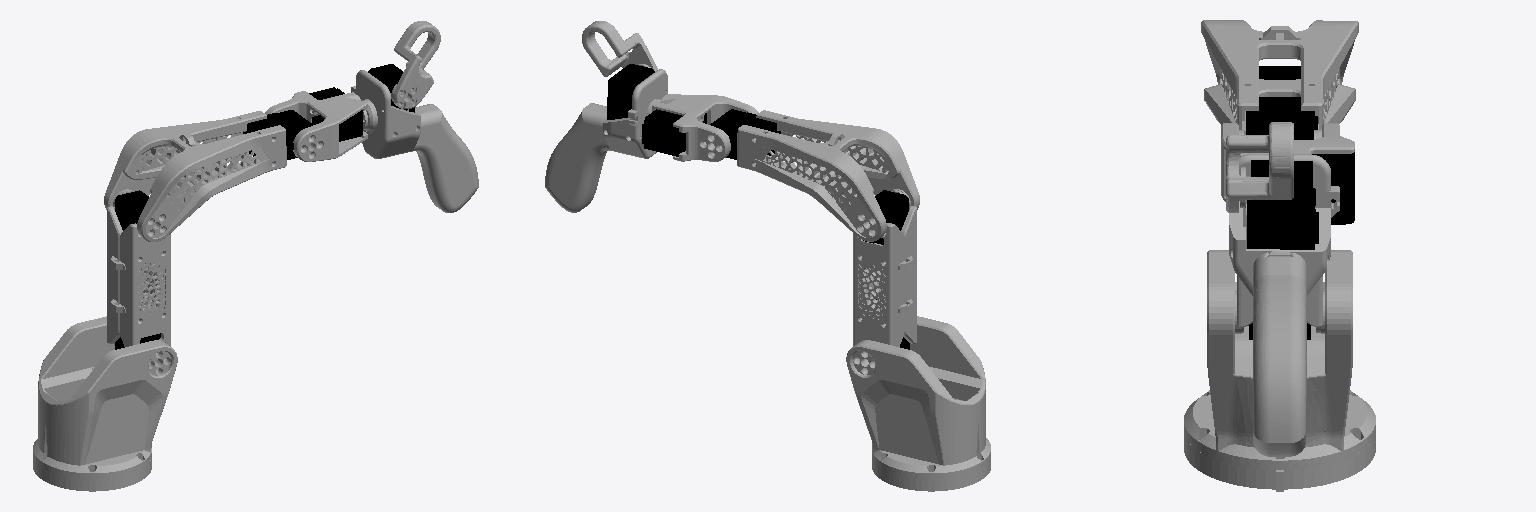
URDF robot description (so_arm_102_pre_for_urdf_v5):
<?xml version="1.0" ?>
<!-- SO-ARM 102 leader arm, Robonine (https://github.com/roboninecom/SO-ARM102) -->
<!-- Source: simulation/urdf/so_arm_102.urdf, simulation/urdf/meshes/*.stl and models/stl/SO-ARM102_Leader.STL at commit f0a993e -->
<!-- Licence: CC-BY-4.0 (simulation assets) / CERN-OHL-P-2.0 (models), see the repository's LICENSING.md -->
<!-- Changes for the station viewer: collision boxes removed; each link mesh split into a frame mesh and one mesh per servo so motors can be coloured by status; link5 carries the leader wrist-roll part, handle and servo (taken from the leader assembly STL and decimated), with the trigger as a revolute joint on the servo horn axis; the trigger limits (-0.6..0 rad, 0 = released) are an estimate, not CAD data -->
<robot name="so_arm_102_pre_for_urdf_v5">
  <material name="silver">
    <color rgba="0.7 0.7 0.7 1.0" />
  </material>
  <material name="so102_motor_1_material">
    <color rgba="0 0 0 1.0" />
  </material>
  <material name="so102_motor_2_material">
    <color rgba="0 0 0 1.0" />
  </material>
  <material name="so102_motor_3_material">
    <color rgba="0 0 0 1.0" />
  </material>
  <material name="so102_motor_4_material">
    <color rgba="0 0 0 1.0" />
  </material>
  <material name="so102_motor_5_material">
    <color rgba="0 0 0 1.0" />
  </material>
  <material name="so102_motor_6_material">
    <color rgba="0 0 0 1.0" />
  </material>
  <link name="base_link">
    <inertial>
      <origin xyz="-0.00753657459228 2.70964811146e-05 0.013641047398" rpy="0 0 0" />
      <mass value="0.178499229726" />
      <inertia ixx="0.000199871543864" iyy="0.000148679123423" izz="0.000331455821027" ixy="1.90199840717e-07" iyz="4.23062670743e-08" ixz="-2.10081183092e-06" />
    </inertial>
    <visual>
      <origin xyz="-0 -0 -0" rpy="0 0 0" />
      <geometry>
        <mesh filename="assets/base_link.stl" scale="0.001 0.001 0.001" />
      </geometry>
      <material name="silver" />
    </visual>
  </link>
  <link name="link1_1">
    <inertial>
      <origin xyz="0.000323477926688 -9.49285422888e-06 0.0277445919724" rpy="0 0 0" />
      <mass value="0.201603775922" />
      <inertia ixx="0.000198444068688" iyy="0.000237480937143" izz="0.000210354023061" ixy="7.13434120346e-08" iyz="8.6838415384e-08" ixz="-3.34183738347e-05" />
    </inertial>
    <visual>
      <origin xyz="0.006 1.10978314851e-16 -0.025" rpy="0 0 0" />
      <geometry>
        <mesh filename="assets/link1_1_frame.stl" scale="0.001 0.001 0.001" />
      </geometry>
      <material name="silver" />
    </visual>
    <visual>
      <origin xyz="0.006 1.10978314851e-16 -0.025" rpy="0 0 0" />
      <geometry>
        <mesh filename="assets/motor_1.stl" scale="0.001 0.001 0.001" />
      </geometry>
      <material name="so102_motor_1_material" />
    </visual>
  </link>
  <link name="link2_1">
    <inertial>
      <origin xyz="-9.08588393138e-05 0.0179996080154 0.0565027997369" rpy="0 0 0" />
      <mass value="0.180993297738" />
      <inertia ixx="0.000343822377525" iyy="0.000338733474867" izz="3.40211492897e-05" ixy="3.26214111802e-10" iyz="1.62595657322e-06" ixz="-8.83251140382e-08" />
    </inertial>
    <visual>
      <origin xyz="-0.034 0.018 -0.098356707952" rpy="0 0 0" />
      <geometry>
        <mesh filename="assets/link2_1_frame.stl" scale="0.001 0.001 0.001" />
      </geometry>
      <material name="silver" />
    </visual>
    <visual>
      <origin xyz="-0.034 0.018 -0.098356707952" rpy="0 0 0" />
      <geometry>
        <mesh filename="assets/motor_2.stl" scale="0.001 0.001 0.001" />
      </geometry>
      <material name="so102_motor_2_material" />
    </visual>
    <visual>
      <origin xyz="-0.034 0.018 -0.098356707952" rpy="0 0 0" />
      <geometry>
        <mesh filename="assets/motor_3.stl" scale="0.001 0.001 0.001" />
      </geometry>
      <material name="so102_motor_3_material" />
    </visual>
  </link>
  <link name="link3_1">
    <inertial>
      <origin xyz="0.0899345844067 -0.0180532098499 0.030929698344" rpy="0 0 0" />
      <mass value="0.121036400289" />
      <inertia ixx="4.68441522042e-05" iyy="0.000261776819052" izz="0.000274572705914" ixy="-3.51127629536e-07" iyz="-1.941119197e-08" ixz="-2.45262905805e-05" />
    </inertial>
    <visual>
      <origin xyz="-0.0340339589459 -0.017999879491 -0.211357541714" rpy="0 0 0" />
      <geometry>
        <mesh filename="assets/link3_1_frame.stl" scale="0.001 0.001 0.001" />
      </geometry>
      <material name="silver" />
    </visual>
    <visual>
      <origin xyz="-0.0340339589459 -0.017999879491 -0.211357541714" rpy="0 0 0" />
      <geometry>
        <mesh filename="assets/motor_4.stl" scale="0.001 0.001 0.001" />
      </geometry>
      <material name="so102_motor_4_material" />
    </visual>
  </link>
  <link name="link4_1">
    <inertial>
      <origin xyz="0.0367612549493 -0.00682773158541 -9.36509085222e-05" rpy="0 0 0" />
      <mass value="0.0850684506718" />
      <inertia ixx="2.5361050179e-05" iyy="2.1143272577e-05" izz="3.58784706539e-05" ixy="-2.59566550716e-06" iyz="4.37062265793e-08" ixz="1.43173507335e-07" />
    </inertial>
    <visual>
      <origin xyz="-0.1690931926 -0.0179996182572 -0.244995122636" rpy="0 0 0" />
      <geometry>
        <mesh filename="assets/link4_1_frame.stl" scale="0.001 0.001 0.001" />
      </geometry>
      <material name="silver" />
    </visual>
    <visual>
      <origin xyz="-0.1690931926 -0.0179996182572 -0.244995122636" rpy="0 0 0" />
      <geometry>
        <mesh filename="assets/motor_5.stl" scale="0.001 0.001 0.001" />
      </geometry>
      <material name="so102_motor_5_material" />
    </visual>
  </link>
  <link name="link5_1">
    <inertial>
      <origin xyz="0.0344926242899 -3.24353462452e-05 0.0128432467385" rpy="0 0 0" />
      <mass value="0.106616468137" />
      <inertia ixx="9.43485888891e-05" iyy="6.44606301656e-05" izz="7.93067623665e-05" ixy="-3.08426233239e-07" iyz="5.47431071095e-08" ixz="8.10180709222e-06" />
    </inertial>
    <visual>
      <origin xyz="-0.22828777435 6.48704621215e-07 -0.244954758855" rpy="0 0 0" />
      <geometry>
        <mesh filename="assets/leader_wrist_handle.stl" scale="0.001 0.001 0.001" />
      </geometry>
      <material name="silver" />
    </visual>
    <visual>
      <origin xyz="-0.22828777435 6.48704621215e-07 -0.244954758855" rpy="0 0 0" />
      <geometry>
        <mesh filename="assets/motor_6_leader.stl" scale="0.001 0.001 0.001" />
      </geometry>
      <material name="so102_motor_6_material" />
    </visual>
  </link>
  <joint name="base_to_link1" type="revolute">
    <origin xyz="-0.006 -1.10978314851e-16 0.025" rpy="0 0 0" />
    <parent link="base_link" />
    <child link="link1_1" />
    <axis xyz="-3.48927236311e-15 -1.38855301773e-17 -1" />
    <limit effort="2.942" velocity="4.717" lower="-3.07177948351" upper="3.07177948351" />
  </joint>
  <joint name="link1_to_link2" type="revolute">
    <origin xyz="0.04 -0.018 0.073356707952" rpy="0 0 0" />
    <parent link="link1_1" />
    <child link="link2_1" />
    <axis xyz="3.7576779295e-14 -1 3.11848821907e-14" />
    <limit effort="4.903" velocity="7.874" lower="-2.32128790515" upper="1.58824961931" />
  </joint>
  <joint name="link2_to_link3" type="revolute">
    <origin xyz="3.39589458789e-05 0.035999879491 0.113000833762" rpy="0 0 0" />
    <parent link="link2_1" />
    <child link="link3_1" />
    <axis xyz="5.4643524895e-08 -1 3.71447673953e-08" />
    <limit effort="4.903" velocity="7.874" lower="-1.57079632679" upper="2.67035375555" />
  </joint>
  <joint name="link3_to_link4" type="revolute">
    <origin xyz="0.135059233654 -2.61233757511e-07 0.0336375809223" rpy="0 0 0" />
    <parent link="link3_1" />
    <child link="link4_1" />
    <axis xyz="-5.21611917629e-08 1 -3.41984371354e-08" />
    <limit effort="2.942" velocity="4.717" lower="-1.72787595947" upper="1.69296937443" />
  </joint>
  <!-- Wrist roll: same axis and limits as the follower, so both arms map the
       calibrated range to the same angles. The leader's handle sits half a turn
       from the follower's gripper at the centre of the range, so the link 5
       frame (handle, servo 6, trigger) is rolled 180 degrees about the joint axis. -->
  <joint name="link4_to_link5" type="revolute">
    <origin xyz="0.0591945817497 -0.0180002669618 -4.03637807994e-05" rpy="3.14159265359 0 0" />
    <parent link="link4_1" />
    <child link="link5_1" />
    <axis xyz="-1 -4.90398764451e-08 1.40482066922e-10" />
    <limit effort="2.942" velocity="4.717" lower="-2.87979326579" upper="2.84488668075" />
  </joint>
  <link name="trigger_1">
    <inertial>
      <origin xyz="0 0 0" rpy="0 0 0" />
      <mass value="0.02" />
      <inertia ixx="1e-5" iyy="1e-5" izz="1e-5" ixy="0" iyz="0" ixz="0" />
    </inertial>
    <visual>
      <origin xyz="-0.253819119 -0.017662539 -0.224680706" rpy="0 0 0" />
      <geometry>
        <mesh filename="assets/leader_trigger.stl" scale="0.001 0.001 0.001" />
      </geometry>
      <material name="silver" />
    </visual>
  </link>
  <joint name="trigger" type="revolute">
    <origin xyz="0.025531345 0.017663187 -0.020274053" rpy="0 0 0" />
    <parent link="link5_1" />
    <child link="trigger_1" />
    <axis xyz="-0.000725 0.999999 -0.001489" />
    <limit effort="1" velocity="4.717" lower="-0.6" upper="0" />
  </joint>
</robot>

--- Facts derived from the render (not from the file) ---
3 views of the same robot in one strip: view 1: azimuth 30°, elevation 25°; view 2: azimuth 150°, elevation 25°; view 3: azimuth 270°, elevation 25° (orthographic).
Robot: so_arm_102_pre_for_urdf_v5 — 7 links, 6 joints (6 revolute); root link base_link; default pose: every joint at zero.
Visible links, largest first — view 1: link1_1, link3_1, link5_1, link2_1, link4_1, trigger_1; view 2: link1_1, link3_1, link5_1, link2_1, link4_1, trigger_1; view 3: link1_1, link5_1, link3_1, trigger_1, link4_1, link2_1.
Link boxes in pixels (x1,y1,x2,y2): link1_1: (33,316,177,491); link3_1: (104,110,312,241); link5_1: (351,64,478,212); link2_1: (107,190,170,349); link4_1: (265,87,367,161); trigger_1: (391,21,440,108); link1_1: (846,316,990,491); link3_1: (710,109,919,241); link5_1: (545,64,667,212); link2_1: (853,190,916,349); link4_1: (641,94,758,161); trigger_1: (582,21,657,76); link1_1: (1184,250,1375,491); link5_1: (1229,154,1339,456); link3_1: (1201,20,1358,139); trigger_1: (1226,122,1293,212); link4_1: (1221,123,1354,224); link2_1: (1237,66,1322,339).
Bounding box of the posed robot: 0.3772 × 0.09 × 0.3011 m (x, y, z).
12 mesh visuals loaded from 13 distinct referenced files (12 binary STL); not drawn: 1 (reference not matched to a file when rendering).
